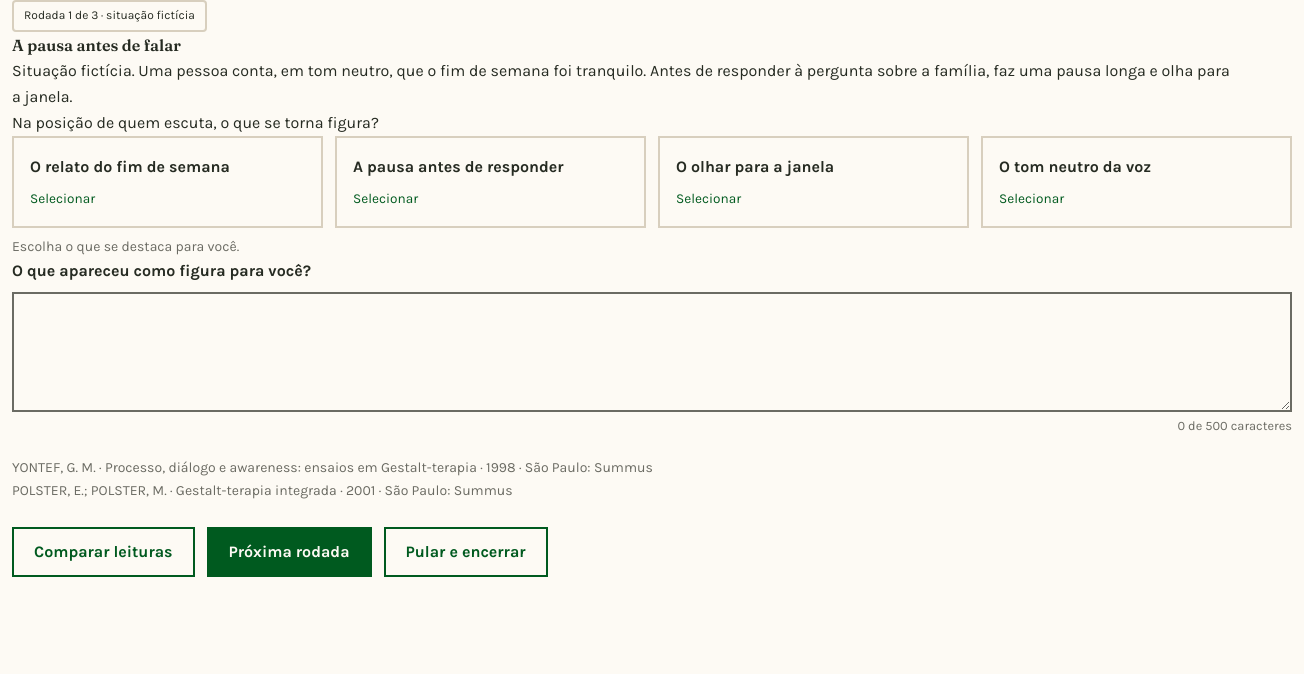
Test: Figura e Fundo: na Mesa posta a figura muda com a necessidade escolhida
The image size is (1304, 674).
Click the button "Próxima rodada" at (289, 552), box x1=206 y1=527 x2=372 y2=577
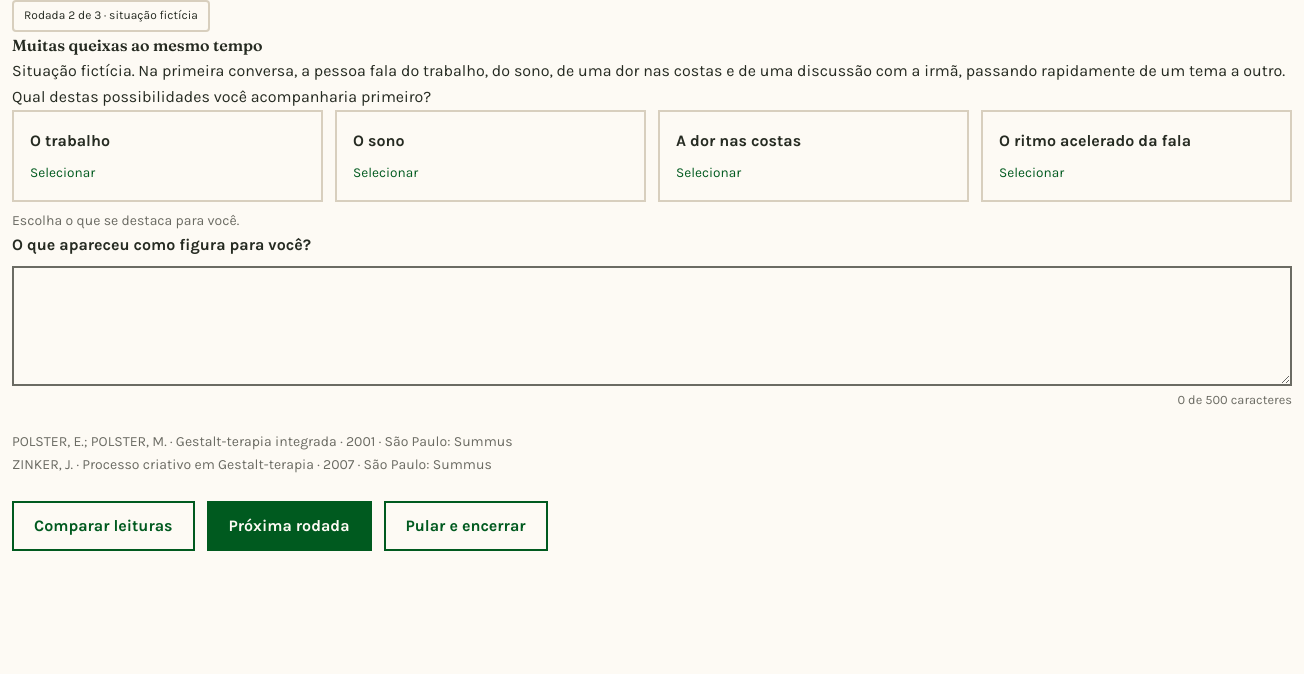
Click the button "Próxima rodada" at (289, 526), box x1=206 y1=501 x2=372 y2=551
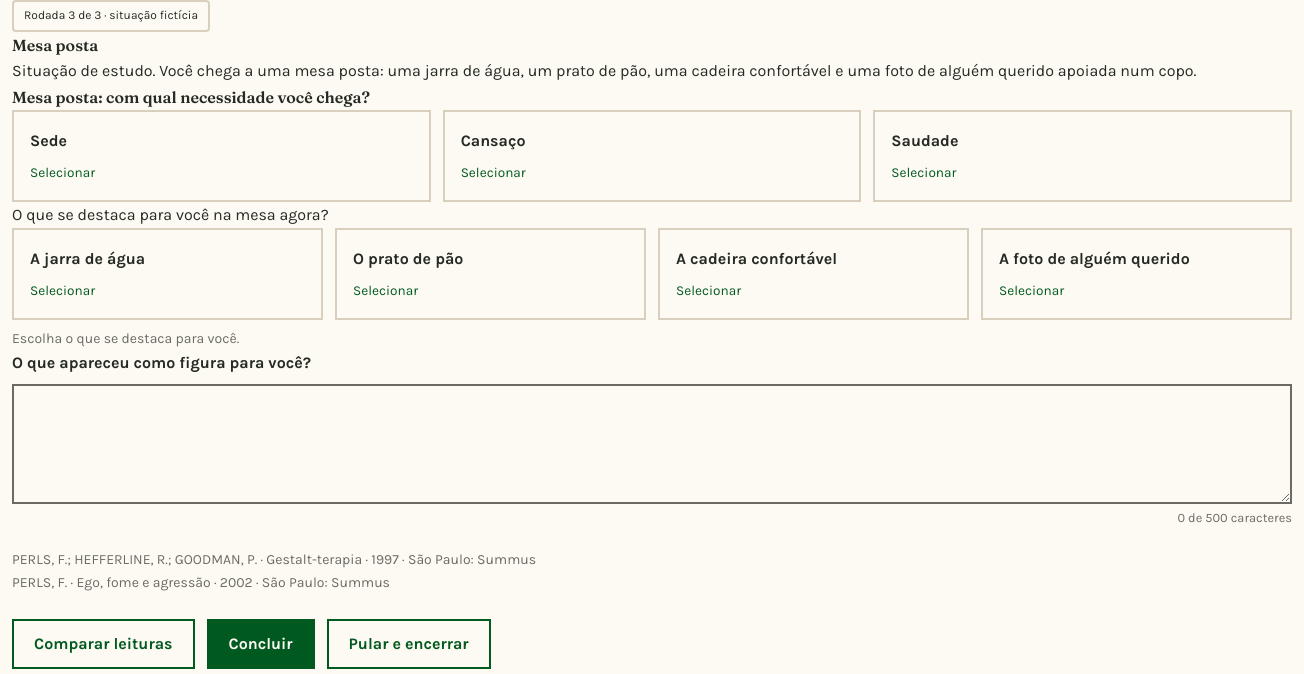
Now the heading "Mesa posta" is shown, box x1=12 y1=34 x2=98 y2=54
Click the button "Saudade Selecionar" at (925, 140), box x1=873 y1=110 x2=1292 y2=202
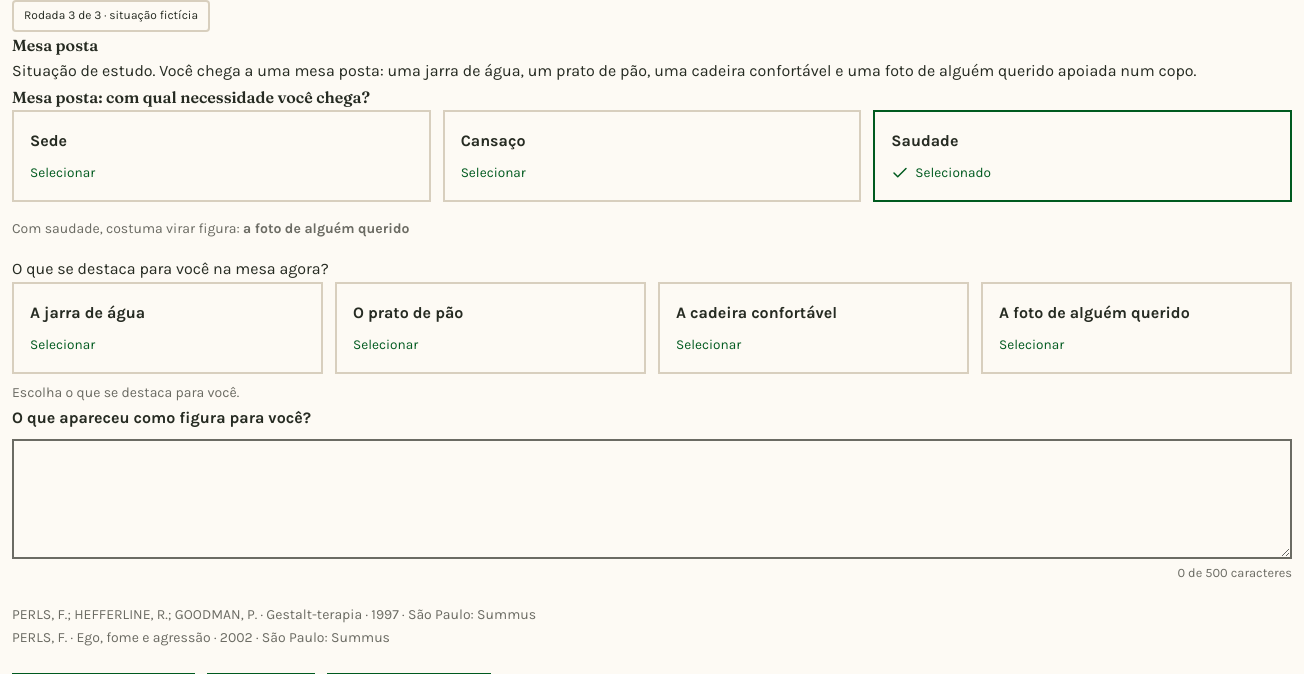
Now the text "Com saudade, costuma virar figura: a foto de alguém querido" is shown, box x1=12 y1=220 x2=409 y2=237
